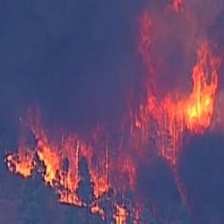fire: (139, 26, 224, 164), (8, 141, 140, 222)
